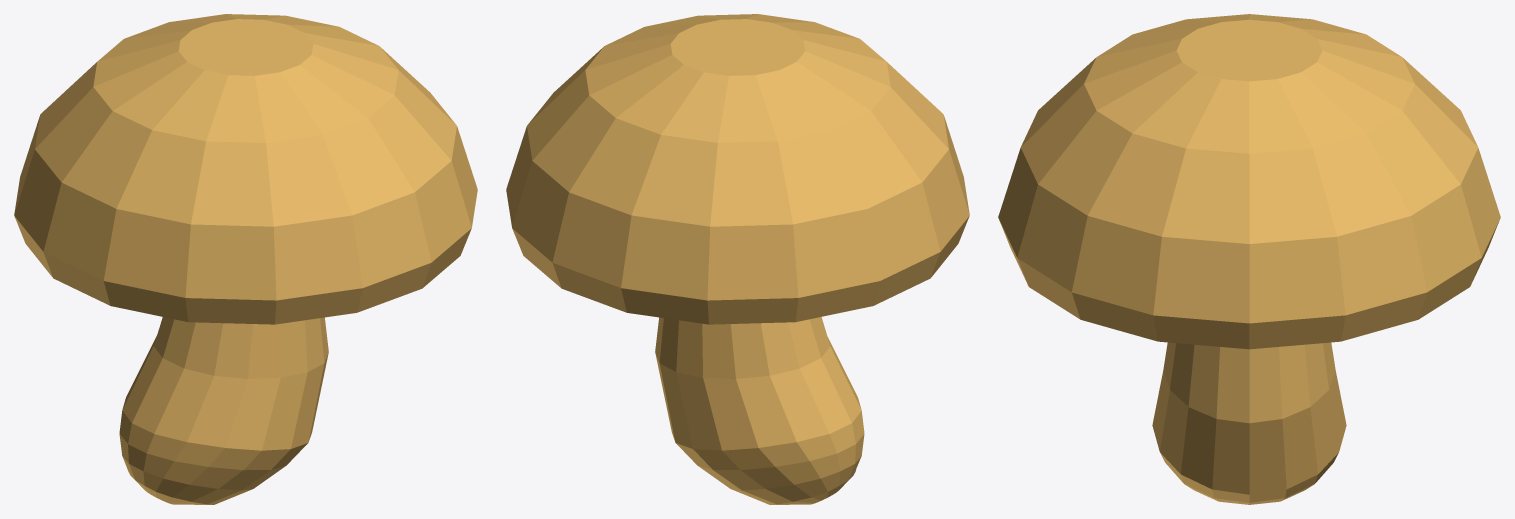
The model's file is Mushroom.fbx.
3 views of the same model, side by side, from view 1: azimuth 30°, elevation 25°; view 2: azimuth 150°, elevation 25°; view 3: azimuth 270°, elevation 25° (orthographic). The views are drawn at different scales.
Visible parts, largest first — view 1: 柱体; view 2: 柱体; view 3: 柱体.
Boxes of the visible parts, x1=… form: 柱体: x1=14, y1=14, x2=477, y2=504; 柱体: x1=506, y1=14, x2=969, y2=504; 柱体: x1=998, y1=14, x2=1500, y2=504.
Size of the model in its own units: 235 by 244 by 235.
